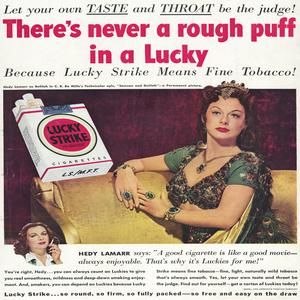cigarette: (46, 237, 56, 250)
